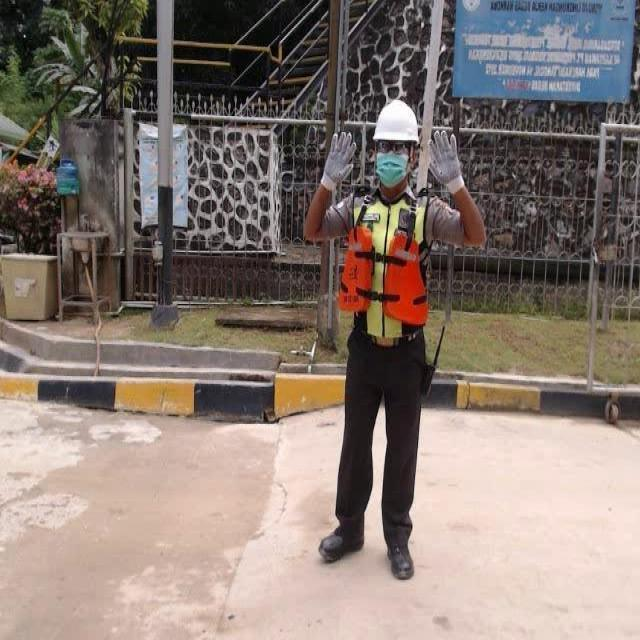gloves: (318, 126, 362, 192), (426, 126, 470, 191)
helmet: (368, 98, 422, 145)
safety_vest: (356, 192, 432, 342)
